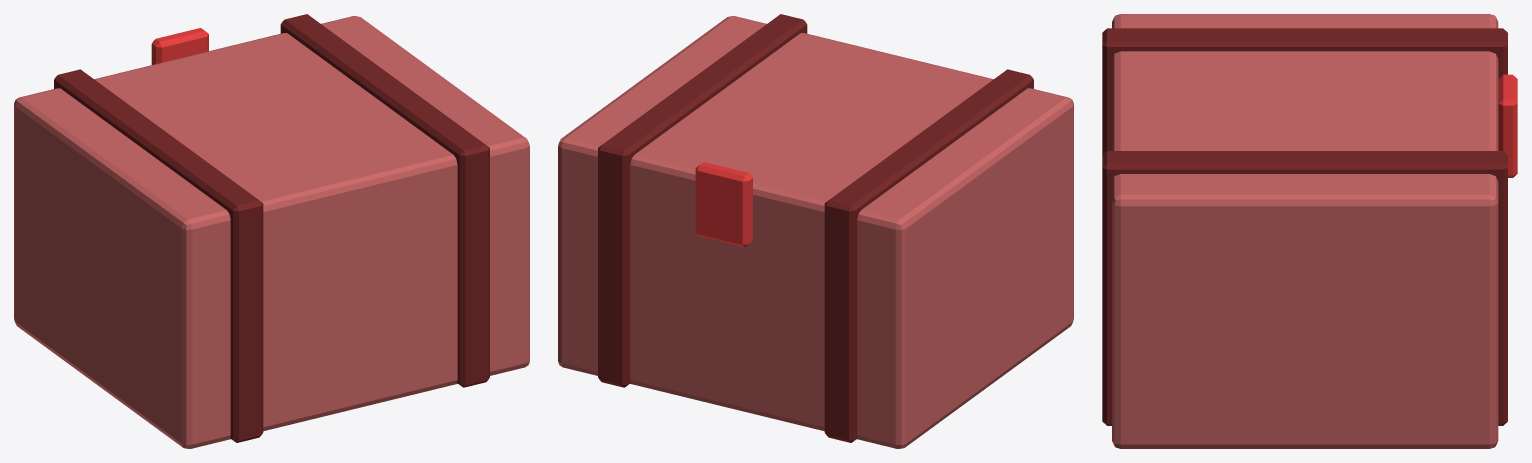
The model's file is crimson_mimic_chest.glb.
3 renders of one model, left to right at view 1: azimuth 30°, elevation 25°; view 2: azimuth 150°, elevation 25°; view 3: azimuth 270°, elevation 25°, orthographic. The views are drawn at different scales.
Parts seen in each view (by area): view 1: crimson_mimic_chest; view 2: crimson_mimic_chest; view 3: crimson_mimic_chest.
Boxes of the visible parts, x1,y1,x2,y2 form: crimson_mimic_chest: [14, 14, 529, 448]; crimson_mimic_chest: [558, 14, 1073, 448]; crimson_mimic_chest: [1102, 14, 1517, 448].
Size of the model in its own units: 0.92 by 0.62 by 0.86.
